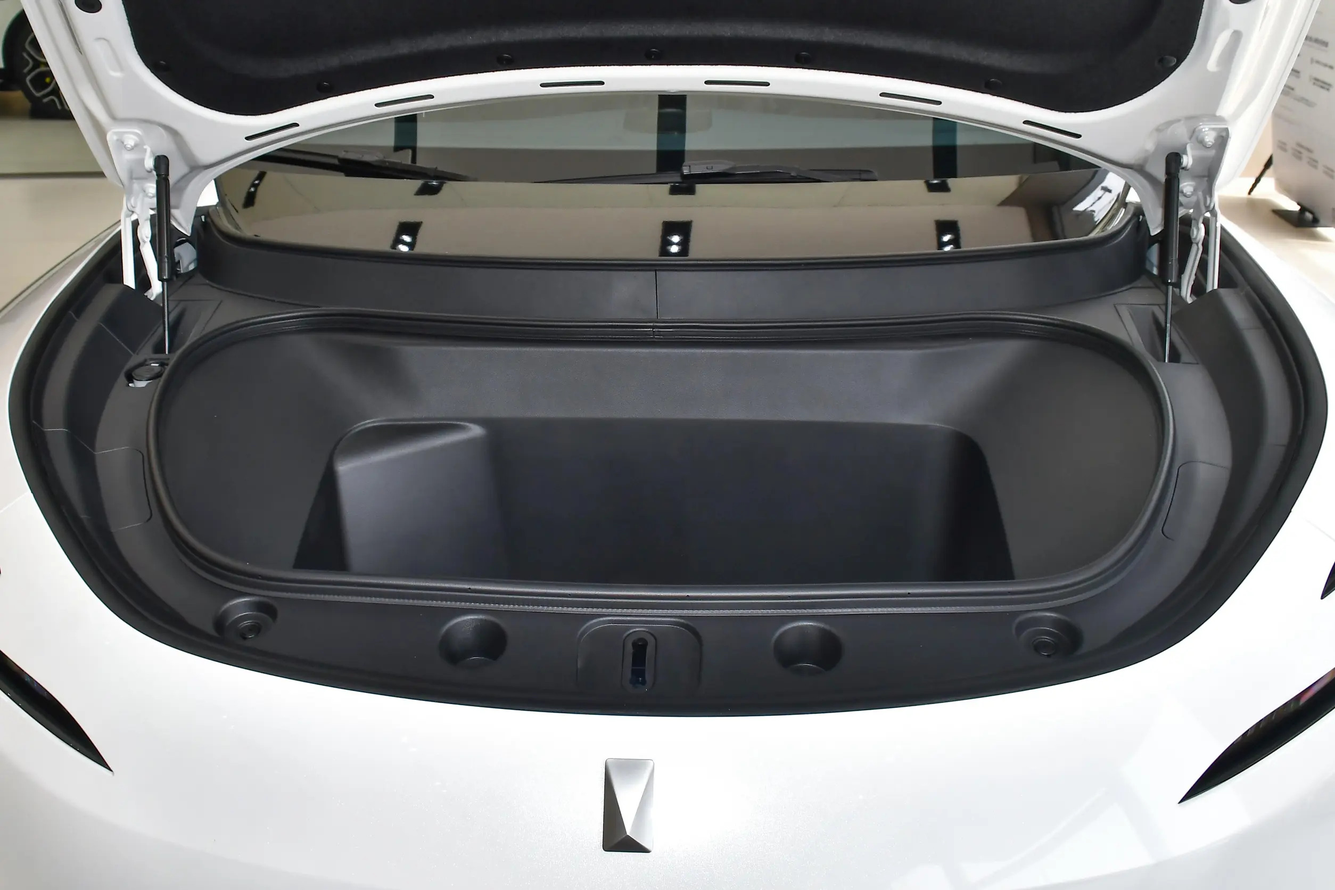AVATR: (603, 759, 654, 853)
